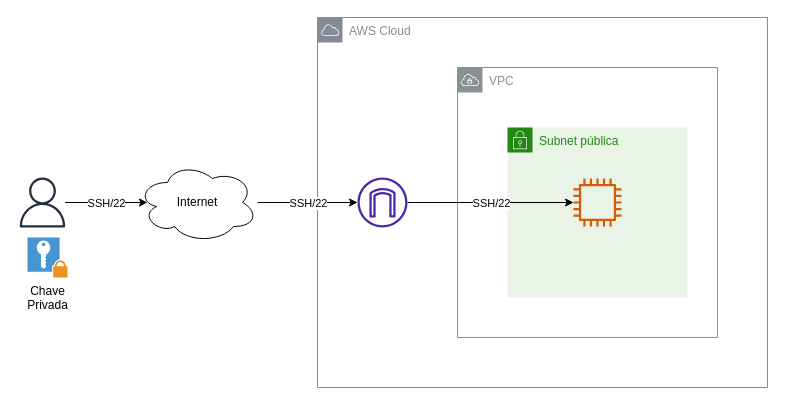
Some shapes in this 785 by 405 pixel diagram are drawn without their labels. The shapes that lost their labels are listed below. From the top down, each one's centre as x and y in pixels, then its label:
At pixel 382 202: "Internet Gateway".
At pixel 597 202: "Servidor Aplicação Instância EC2".
